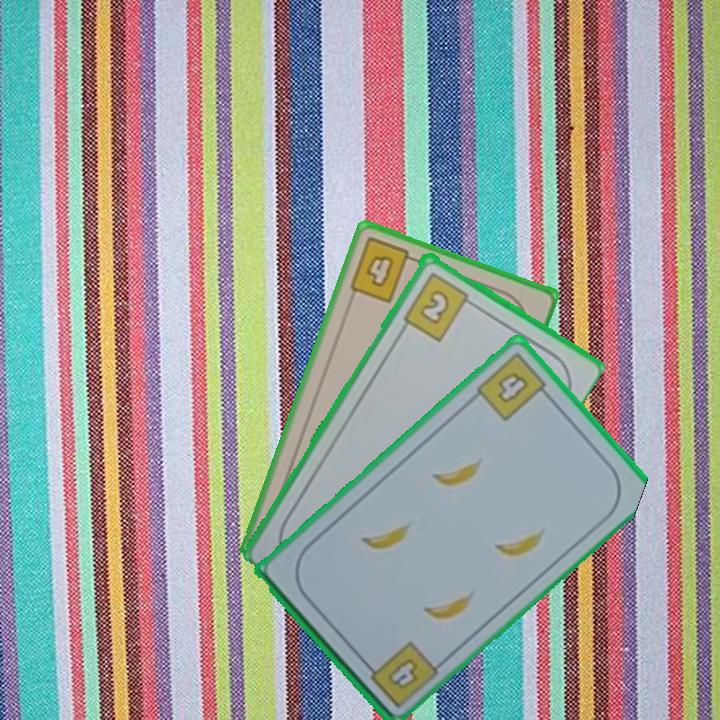2b: (399, 268, 478, 344)
4b: (472, 348, 554, 424), (360, 637, 438, 711), (345, 233, 422, 306)
